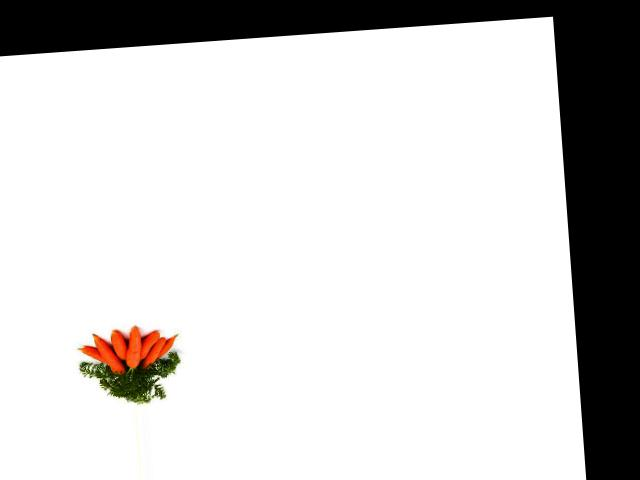carrot: (79, 340, 113, 367)
